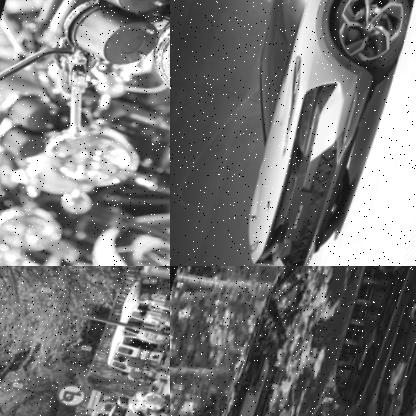bike: (0, 42, 170, 266), (24, 0, 170, 169)
car: (190, 0, 416, 266), (178, 266, 416, 416)
